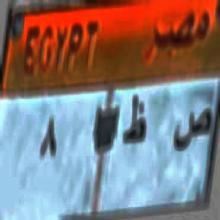8: (37, 110, 58, 171)
Thaa: (123, 86, 147, 154)
saad: (170, 104, 212, 160)
